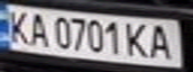0: (48, 14, 72, 50), (84, 17, 106, 54)
1: (103, 18, 124, 56)
7: (66, 15, 87, 52)
A: (145, 21, 178, 61), (24, 10, 51, 47)
K: (0, 7, 33, 45), (121, 20, 151, 58)
